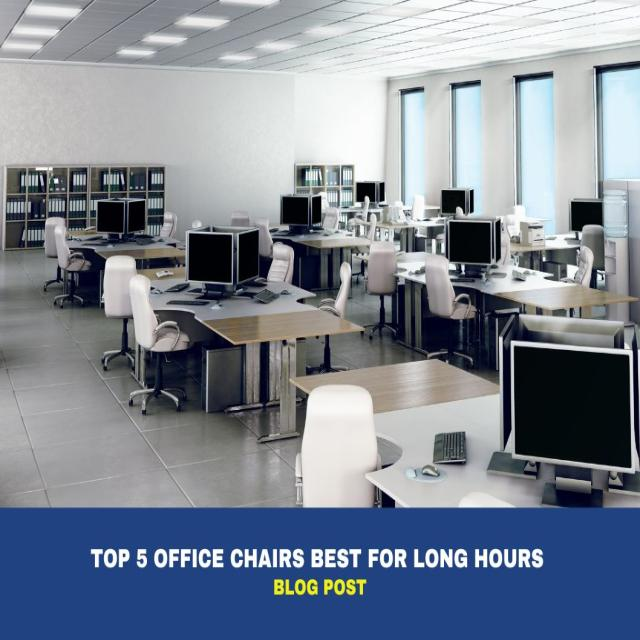chair: (296, 383, 382, 507), (130, 269, 191, 415), (420, 254, 480, 366), (51, 224, 91, 308)
